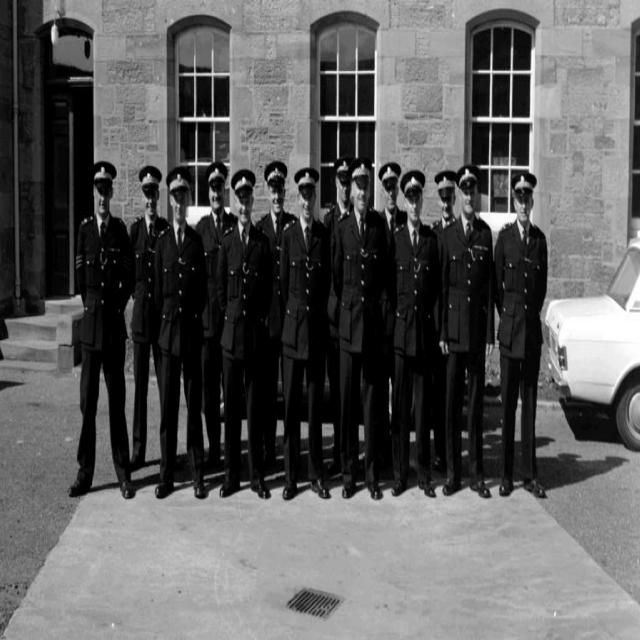other: (538, 246, 640, 444)
